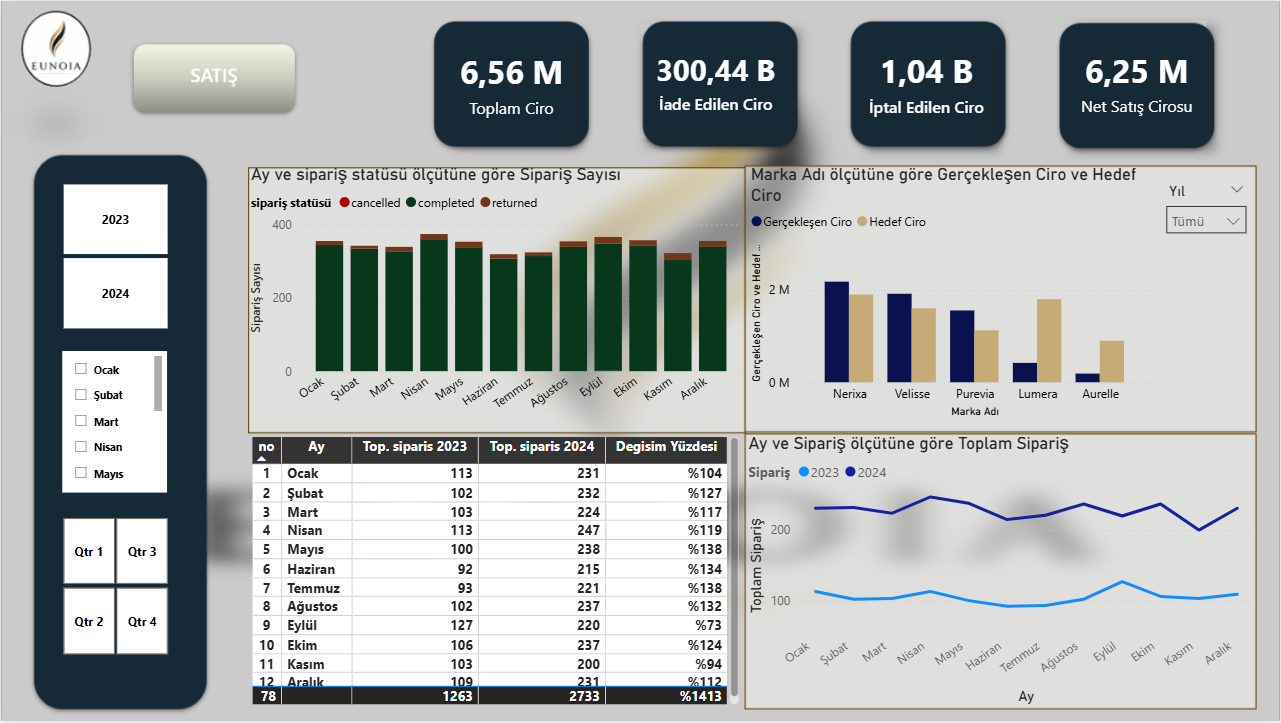

The page's visual inventory and layout, read from the dashboard file:
{"tool":"powerbi","page":{"name":"Satış","canvas":[1280,720],"ordinal":1},"visuals":[{"type":"card","fields":{"Values":["public brand_targets.Toplam Ciro"]},"box":[451.2,26.2,119,111.9],"z":0},{"type":"card","fields":{"Values":["public brand_targets.Ciro(Returned)"]},"box":[640,23.8,150,112.5],"z":1000},{"type":"card","fields":{"Values":["public brand_targets.Ciro(Cancelled)"]},"box":[862.5,21.2,126.2,120],"z":2000},{"type":"card","fields":{"Values":["public brand_targets.Toplam Ciro (Tamamlanmış)"]},"box":[1066.7,20.2,139.3,121.4],"z":3000},{"type":"slicer","fields":{"Values":["public orders.order_date.Varyasyon.Tarih Hiyerarşisi.Yıl"]},"box":[35.7,176.2,154.8,158.3],"z":4000},{"type":"slicer","fields":{"Values":["public orders.order_date.Varyasyon.Tarih Hiyerarşisi.Ay"]},"box":[60.7,350,104.8,141.7],"z":5000},{"type":"columnChart","fields":{"Y":["public brand_targets.Sipariş Sayısı"],"Category":["public orders.order_date.Varyasyon.Tarih Hiyerarşisi.Ay"],"Series":["public orders.order_status"]},"box":[245.2,163.1,500,267.9],"z":6000},{"type":"lineChart","fields":{"Category":["public orders.order_date.Varyasyon.Tarih Hiyerarşisi.Ay"],"Y":["public brand_targets.Toplam Sipariş"],"Series":["public orders.order_year"]},"box":[742.9,431,514.3,277.4],"z":7000},{"type":"tableEx","fields":{"Values":["public vw_monthly_orders_yoy.month_no","public vw_monthly_orders_yoy.ay","public vw_monthly_orders_yoy.siparis_2023","public vw_monthly_orders_yoy.siparis_2024","public vw_monthly_orders_yoy.degisim_orani"]},"box":[245.2,431,497.6,277.4],"z":9000},{"type":"slicer","fields":{"Values":["public orders.order_date.Varyasyon.Tarih Hiyerarşisi.Çeyrek"]},"box":[35.7,509.5,154.8,150],"z":10000},{"type":"clusteredColumnChart","fields":{"Category":["public vw_brand_actual_vs_target.brand_name"],"Y":["public vw_brand_actual_vs_target.actual_revenue","public vw_brand_actual_vs_target.target_revenue"]},"box":[745,162.5,410,258.8],"z":11001},{"type":"slicer","fields":{"Values":["public vw_brand_actual_vs_target.year"]},"box":[1155,176.2,100,70],"z":11002}]}

Visuals, with their boxes in screenshot pixels (x1, y1, x2, y2), scaled from the page's 1280x720 canvas onto the 1281x723 screenshot:
card - public brand_targets.Toplam Ciro: <bbox>452, 26, 571, 139</bbox>
card - public brand_targets.Ciro(Returned): <bbox>640, 24, 791, 137</bbox>
card - public brand_targets.Ciro(Cancelled): <bbox>863, 21, 989, 142</bbox>
card - public brand_targets.Toplam Ciro (Tamamlanmış): <bbox>1068, 20, 1207, 142</bbox>
slicer - public orders.order_date.Varyasyon.Tarih Hiyerarşisi.Yıl: <bbox>36, 177, 191, 336</bbox>
slicer - public orders.order_date.Varyasyon.Tarih Hiyerarşisi.Ay: <bbox>61, 351, 166, 494</bbox>
columnChart - public brand_targets.Sipariş Sayısı x public orders.order_date.Varyasyon.Tarih Hiyerarşisi.Ay: <bbox>245, 164, 746, 433</bbox>
lineChart - public orders.order_date.Varyasyon.Tarih Hiyerarşisi.Ay x public brand_targets.Toplam Sipariş: <bbox>743, 433, 1258, 711</bbox>
tableEx - public vw_monthly_orders_yoy.month_no x public vw_monthly_orders_yoy.ay: <bbox>245, 433, 743, 711</bbox>
slicer - public orders.order_date.Varyasyon.Tarih Hiyerarşisi.Çeyrek: <bbox>36, 512, 191, 662</bbox>
clusteredColumnChart - public vw_brand_actual_vs_target.brand_name x public vw_brand_actual_vs_target.actual_revenue: <bbox>746, 163, 1156, 423</bbox>
slicer - public vw_brand_actual_vs_target.year: <bbox>1156, 177, 1256, 247</bbox>
